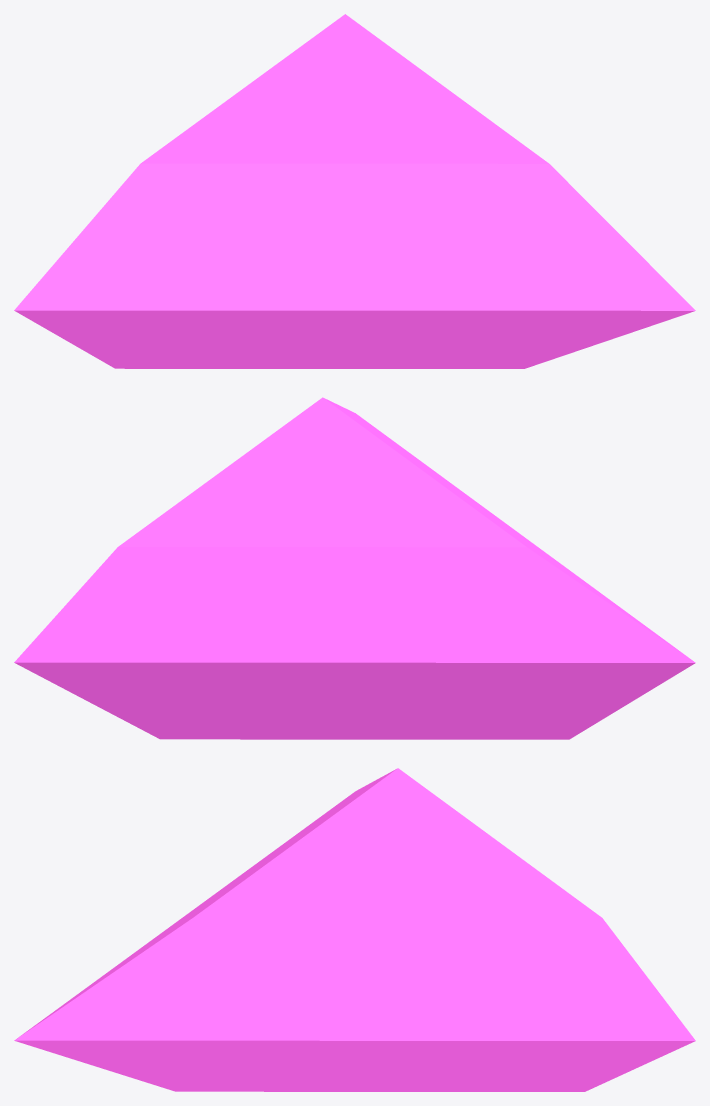
3 renders of one model, top to bottom at view 1: azimuth 30°, elevation 25°; view 2: azimuth 150°, elevation 25°; view 3: azimuth 270°, elevation 25°, orthographic.
Visible parts, largest first — view 1: Circle; view 2: Circle; view 3: Circle.
Boxes of the visible parts, x1,y1,x2,y2 form: Circle: [14, 14, 695, 368]; Circle: [14, 397, 695, 739]; Circle: [14, 768, 695, 1091].
Size of the model in its own units: 419 by 149 by 483.
